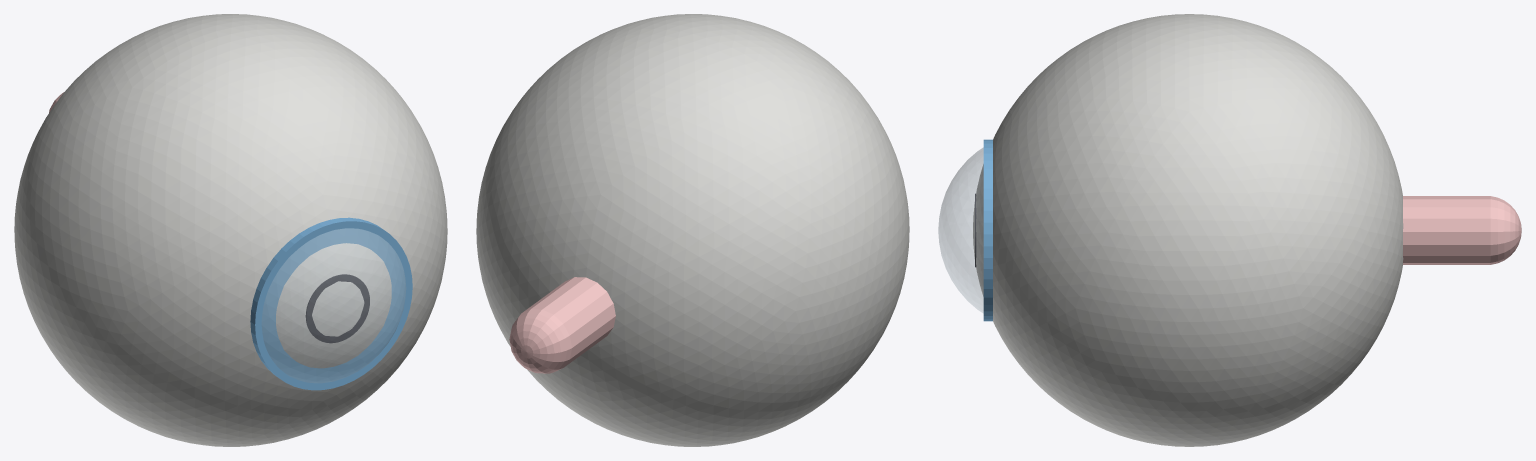
Rendered from eye.glb.
The picture shows the model from 3 angles, left to right: view 1: azimuth 30°, elevation 25°; view 2: azimuth 150°, elevation 25°; view 3: azimuth 270°, elevation 25°; orthographic projection.
Visible parts, largest first — view 1: sclera, cornea, iris, pupil; view 2: sclera, optic_nerve; view 3: sclera, optic_nerve, cornea, iris.
Boxes of the visible parts, x1,y1,x2,y2 form: sclera: [14, 14, 447, 446]; cornea: [262, 228, 405, 382]; iris: [250, 217, 412, 390]; pupil: [305, 274, 369, 343]; sclera: [476, 14, 909, 446]; optic_nerve: [509, 277, 615, 373]; sclera: [973, 14, 1403, 446]; optic_nerve: [1403, 196, 1521, 264]; cornea: [938, 147, 983, 313]; iris: [983, 139, 992, 321].
Size of the model in its own units: 2 by 2 by 2.69.
